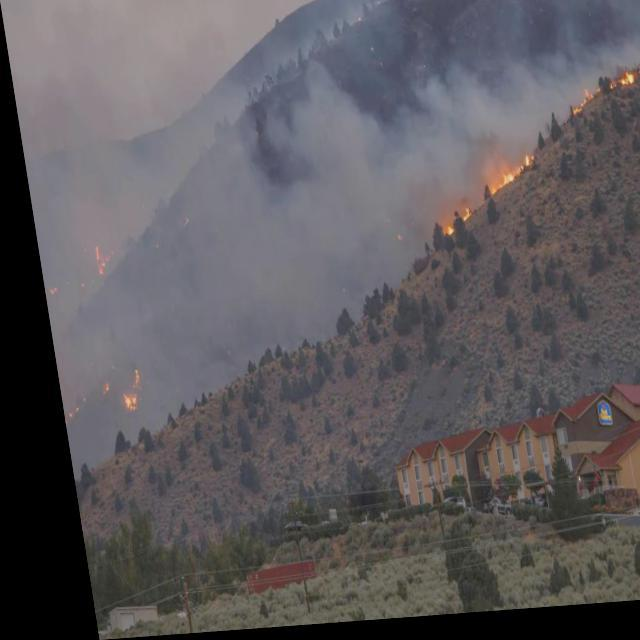Fire: (479, 161, 533, 202), (105, 374, 133, 416), (85, 245, 106, 276), (564, 98, 588, 125), (612, 82, 634, 96), (454, 215, 464, 231), (436, 229, 446, 242), (634, 76, 639, 86)
